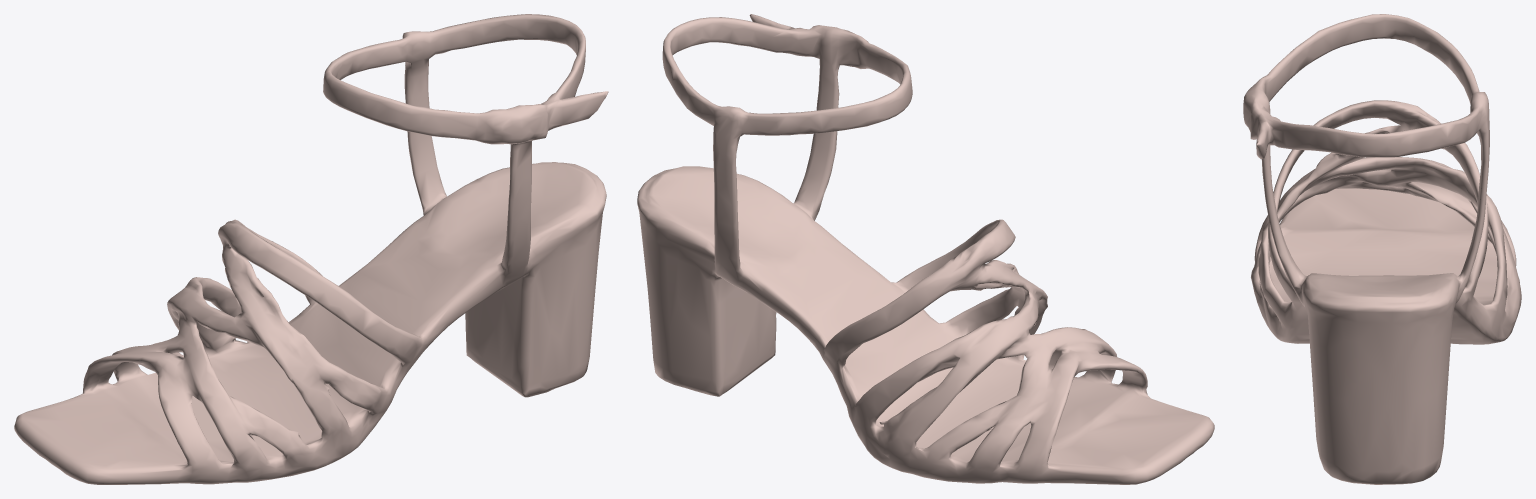
3 renders of one model, left to right at view 1: azimuth 30°, elevation 25°; view 2: azimuth 150°, elevation 25°; view 3: azimuth 270°, elevation 25°, orthographic. The views are drawn at different scales.
Parts seen in each view (by area): view 1: Mesh1.0; view 2: Mesh1.0; view 3: Mesh1.0.
Part boxes in pixels (box(x1,y1,x2,y2)): Mesh1.0: box(14, 14, 608, 484); Mesh1.0: box(637, 14, 1214, 484); Mesh1.0: box(1243, 14, 1521, 484).
Size of the model in its own units: 62499 by 36456 by 26196.
